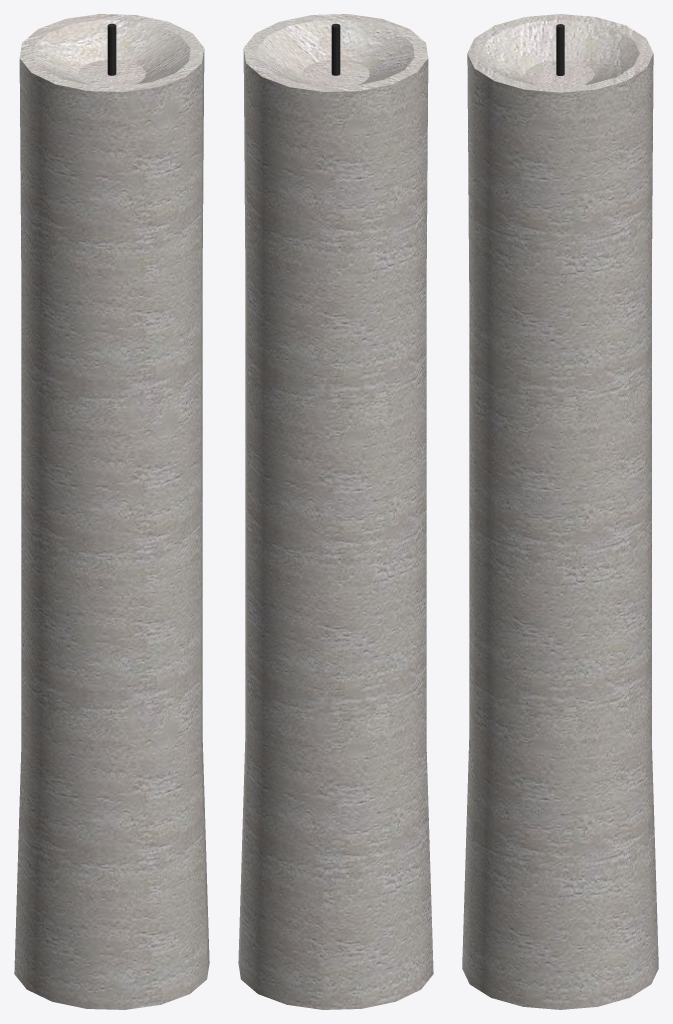
The model's file is candle.fbx.
3 views of the same model, side by side, from view 1: azimuth 30°, elevation 25°; view 2: azimuth 150°, elevation 25°; view 3: azimuth 270°, elevation 25° (orthographic).
Visible parts, largest first — view 1: candle:candle, candle:rope; view 2: candle:candle, candle:rope; view 3: candle:candle, candle:rope.
Part boxes in pixels (x1=…): candle:candle: x1=14, y1=14, x2=209, y2=1009; candle:rope: x1=107, y1=23, x2=116, y2=75; candle:candle: x1=238, y1=14, x2=433, y2=1009; candle:rope: x1=331, y1=23, x2=340, y2=75; candle:candle: x1=462, y1=14, x2=658, y2=1009; candle:rope: x1=556, y1=24, x2=564, y2=75.
Bounding box in the file's own units: 9.75 × 51.57 × 9.75.
2 materials, 1 textured.
